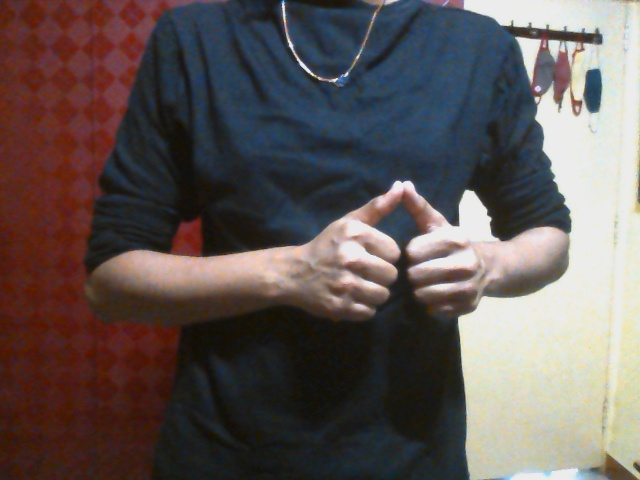A: (305, 181, 484, 324)
